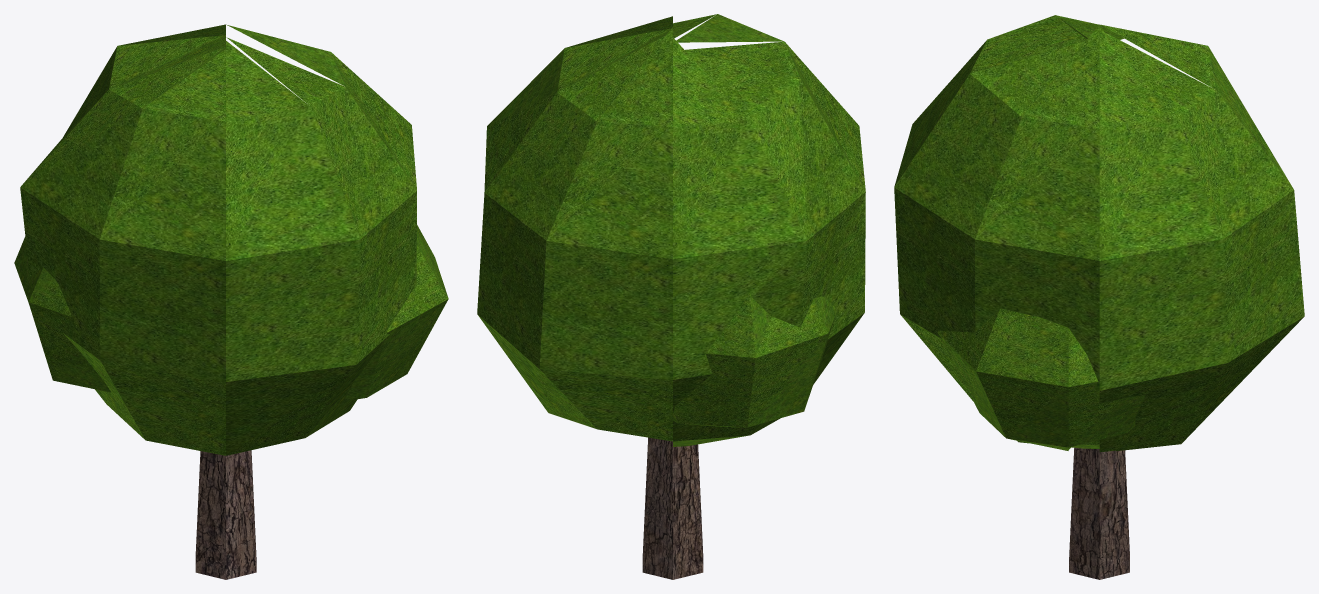
Rendered from tree_oak.glb.
3 renders of one model, left to right at view 1: azimuth 30°, elevation 25°; view 2: azimuth 150°, elevation 25°; view 3: azimuth 270°, elevation 25°, orthographic.
Parts seen in each view (by area): view 1: _MeshInstance3D_10; view 2: _MeshInstance3D_10; view 3: _MeshInstance3D_10.
Boxes of the visible parts, <box> form: _MeshInstance3D_10: <box>14,24,448,579</box>; _MeshInstance3D_10: <box>477,14,865,579</box>; _MeshInstance3D_10: <box>894,15,1304,579</box>.
Bounding box in the file's own units: 2.06 × 2.94 × 1.98.
Materials: 2 (2 with a texture image).
